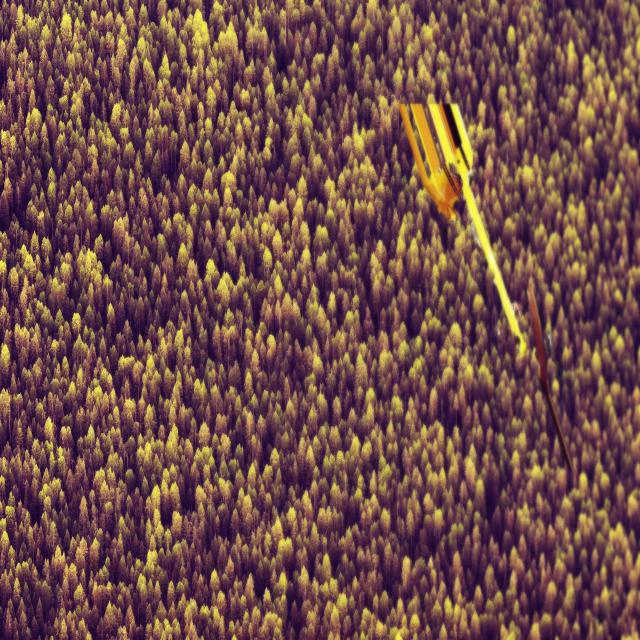airplane: (397, 98, 574, 474)
